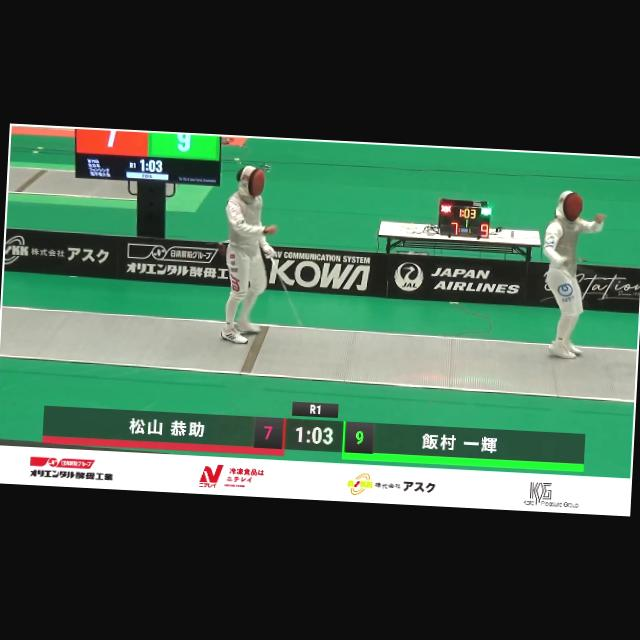blade: (260, 248, 314, 334)
